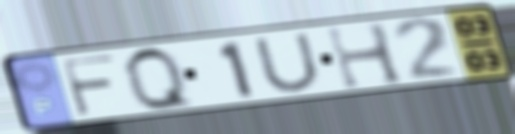1: (216, 38, 257, 101)
2: (390, 15, 466, 84)
F: (57, 52, 120, 119)
H: (321, 20, 409, 93)
Q: (120, 44, 200, 113)
U: (249, 30, 327, 94)
